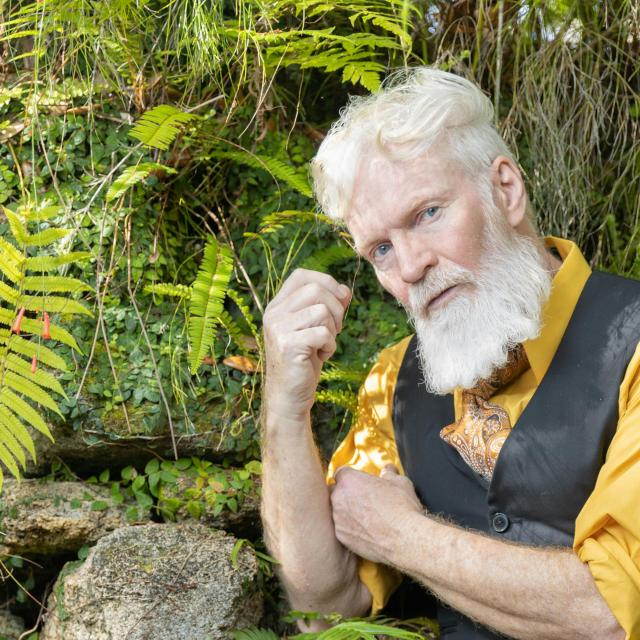human: (248, 64, 640, 640)
